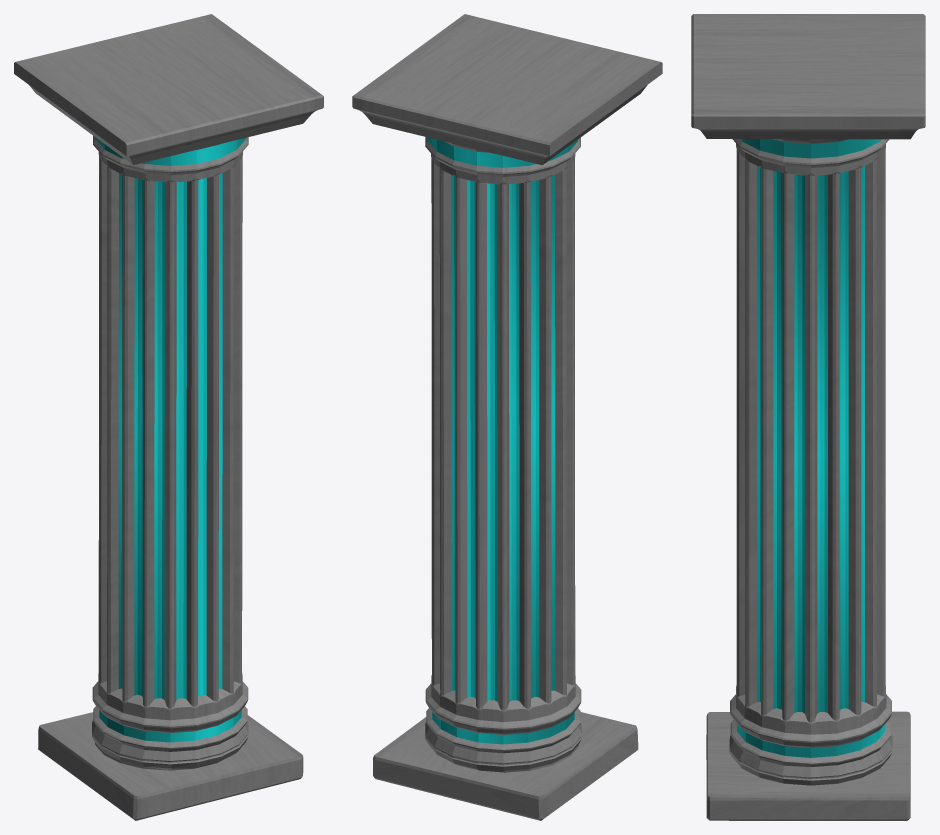
The model's file is column.FBX.
3 renders of one model, left to right at view 1: azimuth 30°, elevation 25°; view 2: azimuth 150°, elevation 25°; view 3: azimuth 270°, elevation 25°, orthographic. The views are drawn at different scales.
Parts seen in each view (by area): view 1: Object002; view 2: Object002; view 3: Object002.
Boxes of the visible parts, box(x1,y1,x2,y2) form: Object002: box(14, 14, 323, 820); Object002: box(352, 14, 662, 820); Object002: box(691, 14, 925, 820).
Size of the model in its own units: 22.06 by 73.11 by 21.67.
2 materials, 2 textured.
